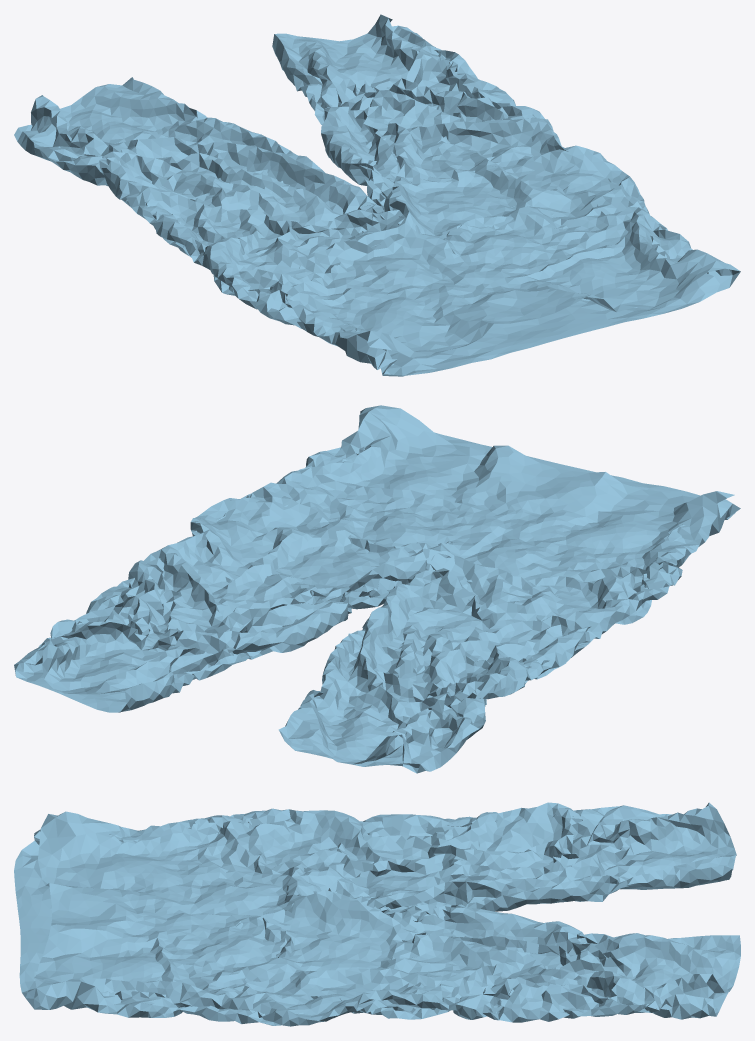
File: frame_00.glb
3 views of the same model, one above another, from view 1: azimuth 30°, elevation 25°; view 2: azimuth 150°, elevation 25°; view 3: azimuth 270°, elevation 25° (orthographic). The views are drawn at different scales.
Parts seen in each view (by area): view 1: frame_00.obj; view 2: frame_00.obj; view 3: frame_00.obj.
Boxes of the visible parts, <box> form: frame_00.obj: <box>14,14,740,376</box>; frame_00.obj: <box>14,405,740,773</box>; frame_00.obj: <box>14,802,740,1026</box>.
Size of the model in its own units: 1.18 by 0.1103 by 1.74.
